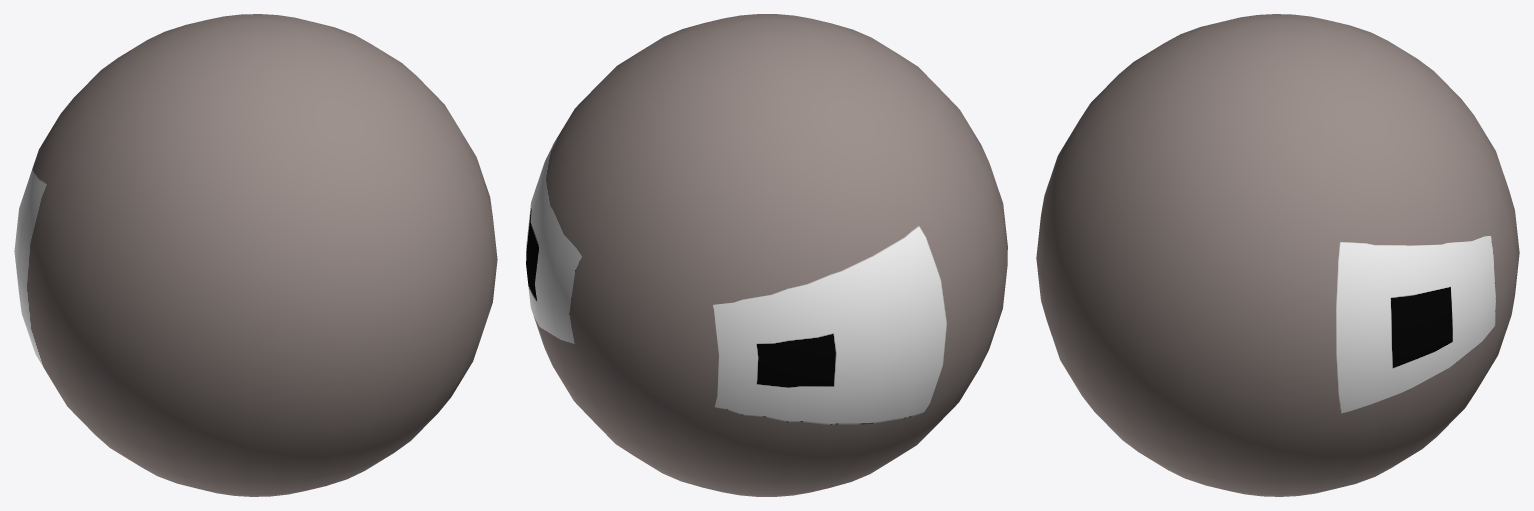
The model's file is EnemyGhost.obj.
3 views of the same model, side by side, from view 1: azimuth 30°, elevation 25°; view 2: azimuth 150°, elevation 25°; view 3: azimuth 270°, elevation 25° (orthographic).
Parts seen in each view (by area): view 1: 球; view 2: 球; view 3: 球.
Part boxes in pixels (x1=…): 球: x1=14, y1=14, x2=497, y2=496; 球: x1=526, y1=14, x2=1007, y2=496; 球: x1=1036, y1=14, x2=1519, y2=496.
Size of the model in its own units: 2.14 by 2.14 by 2.14.
